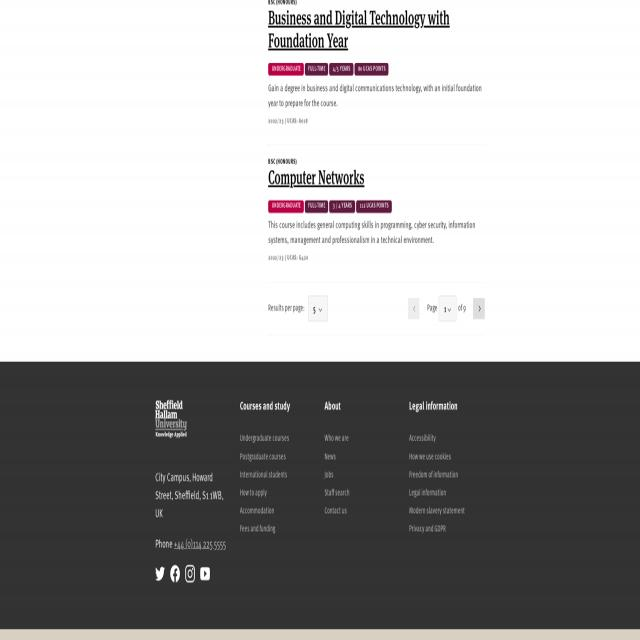button: (155, 400, 187, 438), (408, 298, 420, 319), (473, 298, 485, 319), (155, 566, 165, 582), (170, 566, 180, 582), (185, 566, 195, 582), (200, 566, 210, 582)
field: (308, 296, 328, 322), (439, 296, 457, 322)
